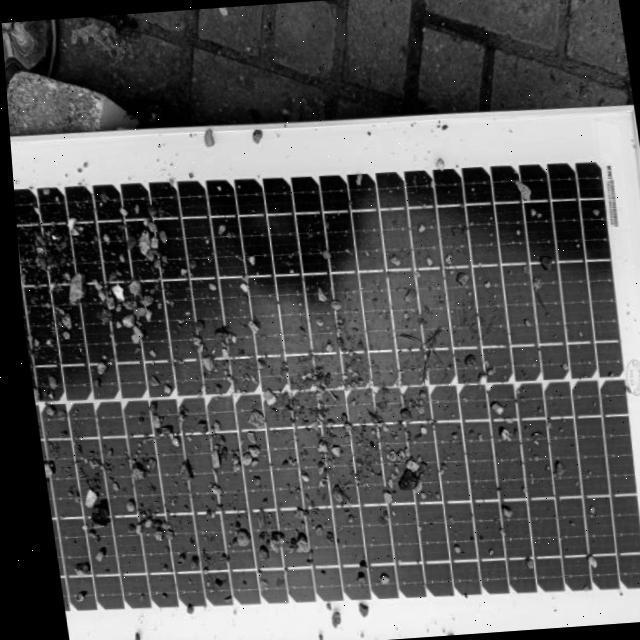Surface Contaminant: (9, 119, 640, 640)
